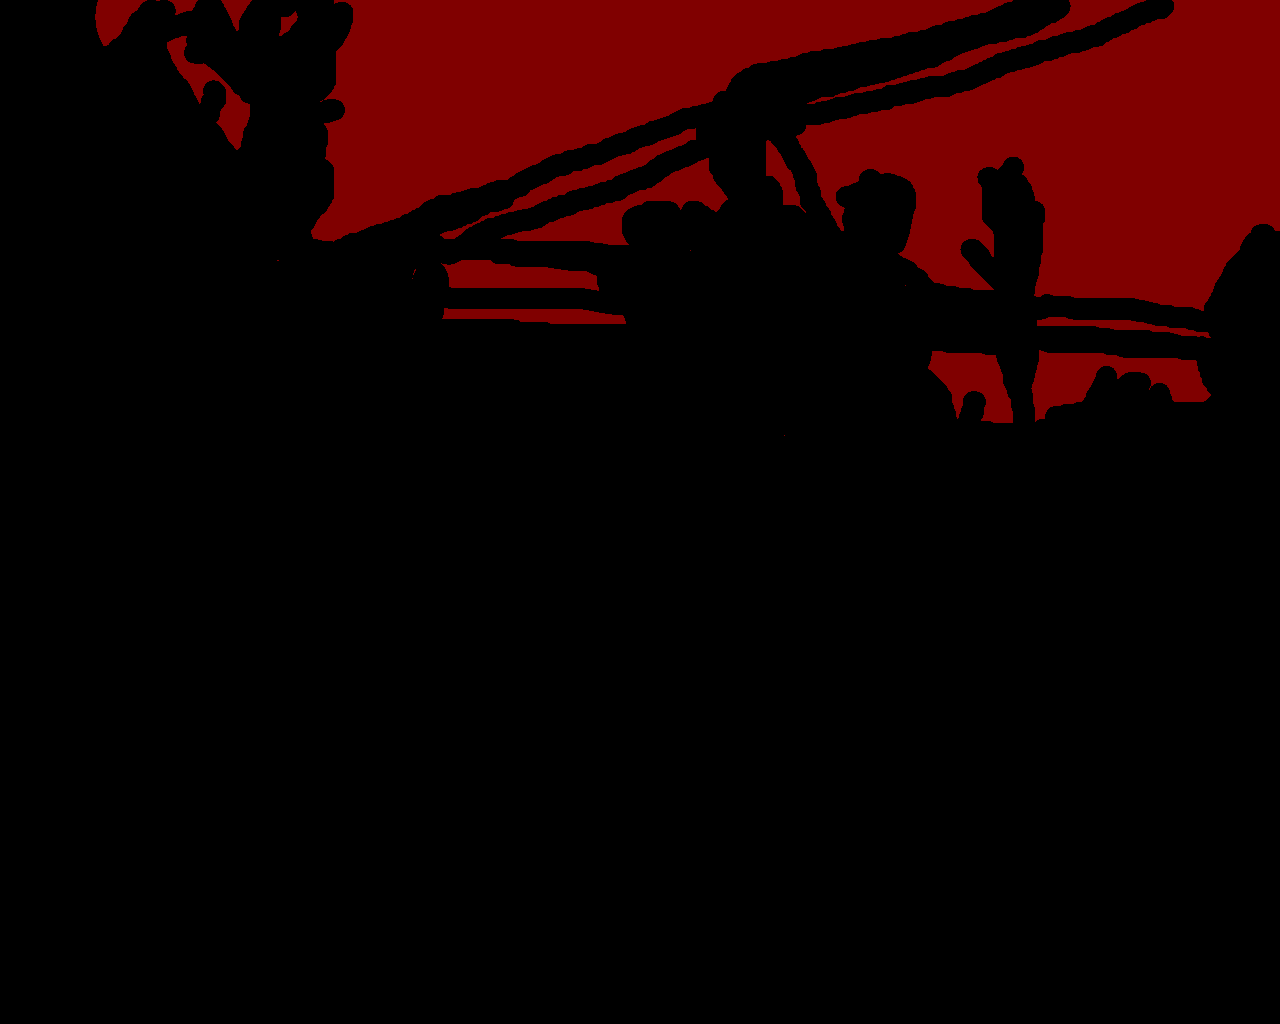Sky: (96, 1, 1279, 436)
